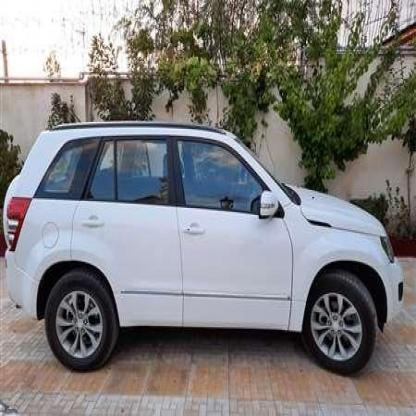Car: (0, 118, 408, 388)
